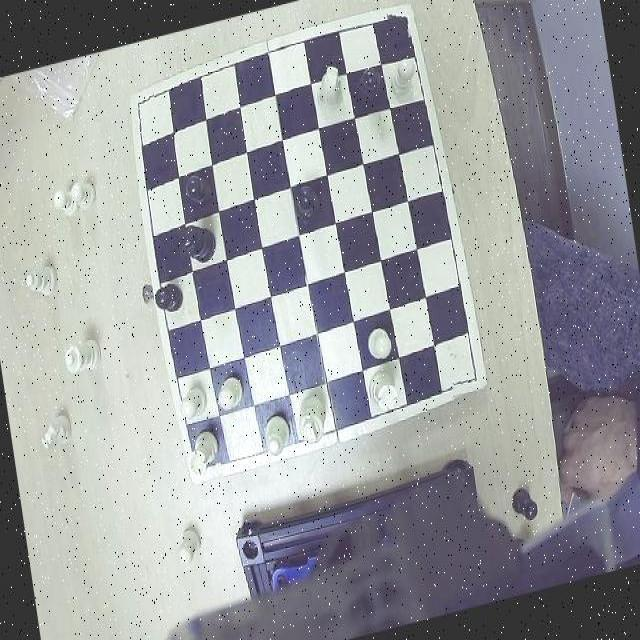chess-table-corners: (450, 363, 486, 402), (384, 5, 418, 43), (191, 452, 225, 488), (130, 92, 158, 124)
